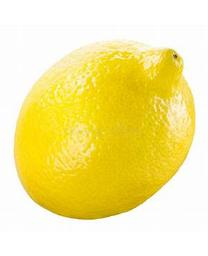lemon: (14, 38, 196, 220)
